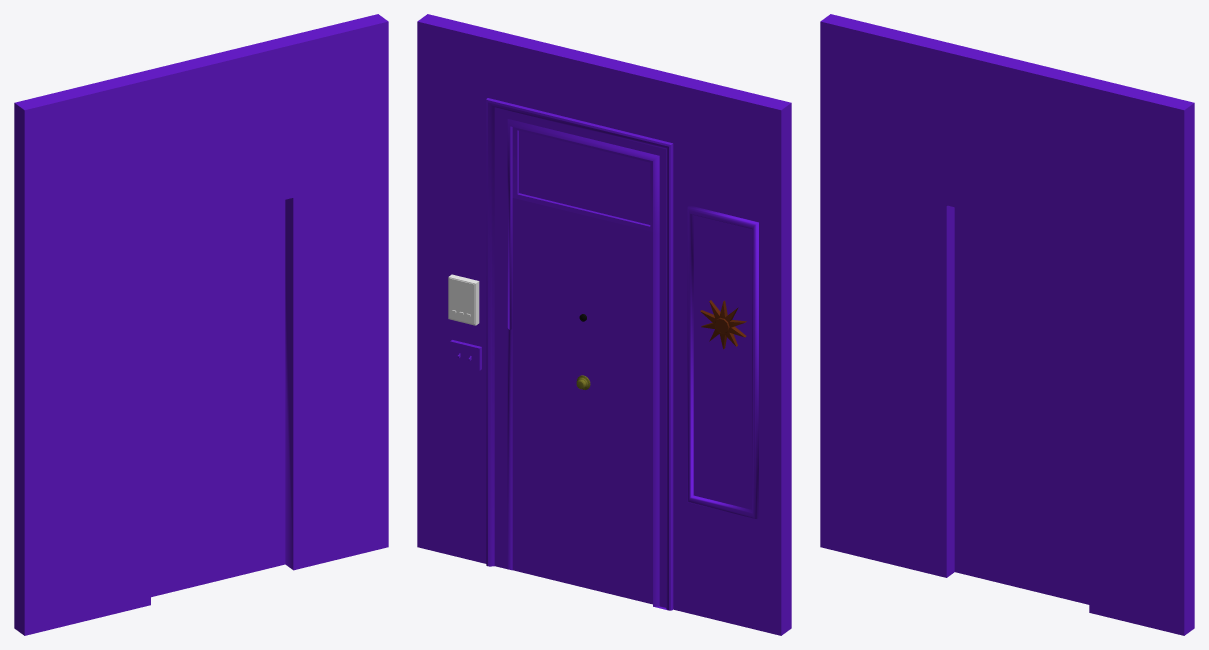
The model's file is Obj-MonicaDoor.fbx.
3 renders of one model, left to right at view 1: azimuth 30°, elevation 25°; view 2: azimuth 150°, elevation 25°; view 3: azimuth 330°, elevation 25°, orthographic.
Parts seen in each view (by area): view 1: base, porte; view 2: base, porte, interphone, clock, interrupteur; view 3: base, porte.
Boxes of the visible parts, x1=… form: base: x1=14, y1=14, x2=388, y2=635; porte: x1=151, y1=200, x2=285, y2=597; base: x1=417, y1=14, x2=791, y2=635; porte: x1=512, y1=198, x2=652, y2=604; interphone: x1=448, y1=274, x2=479, y2=325; clock: x1=700, y1=300, x2=746, y2=349; interrupteur: x1=450, y1=340, x2=481, y2=370; base: x1=820, y1=14, x2=1194, y2=635; porte: x1=954, y1=207, x2=1089, y2=604.
Bounding box in the file's own units: 2044 × 2821 × 144.
